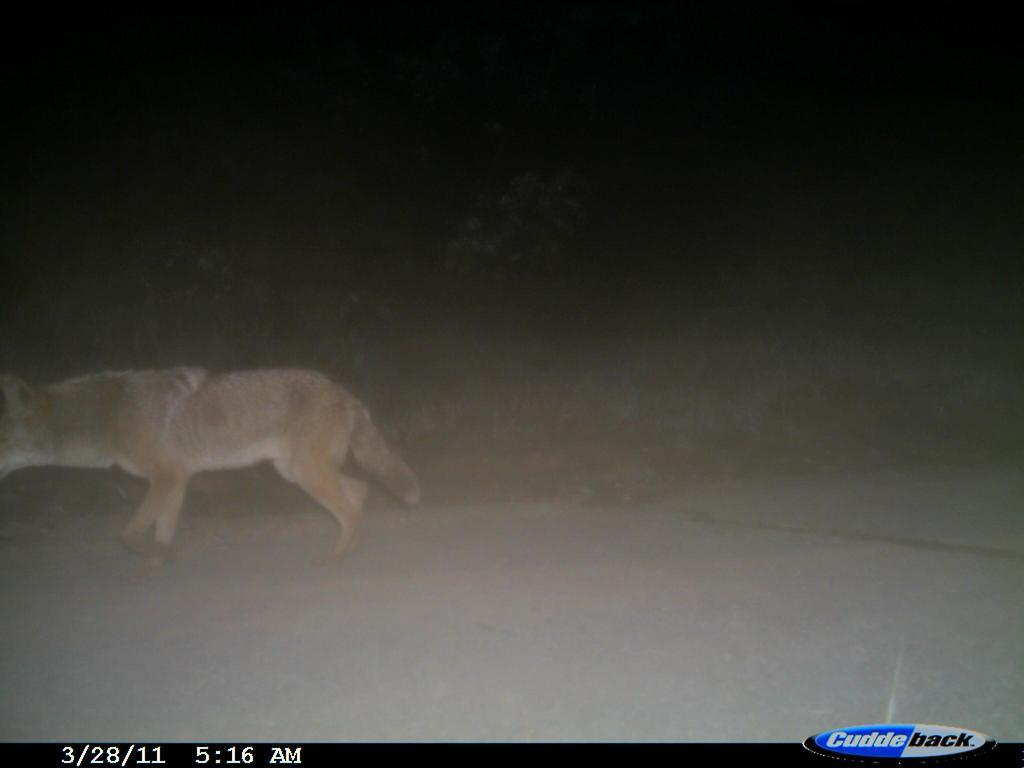coyote: (4, 345, 443, 582)
